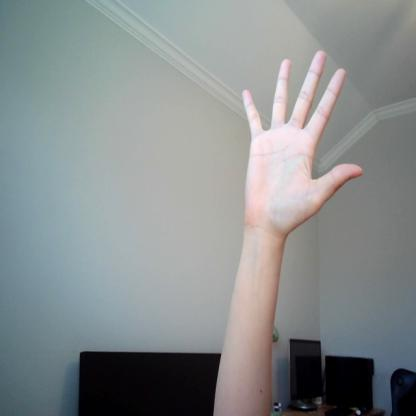five: (237, 42, 369, 236)
